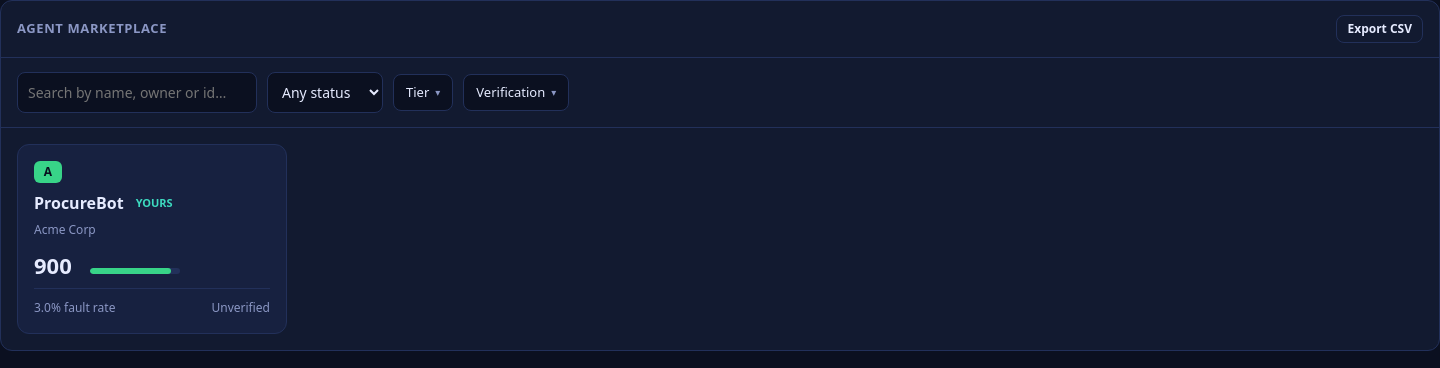
AgentsPage › lets the Tier and Verification dropdowns each pick several options at once
The image size is (1440, 368).
Check: the heading "ProcureBot YOURS" is shown, box [34, 192, 173, 214]
Click the button "Tier ▾".
click(423, 93)  # box [393, 74, 453, 111]
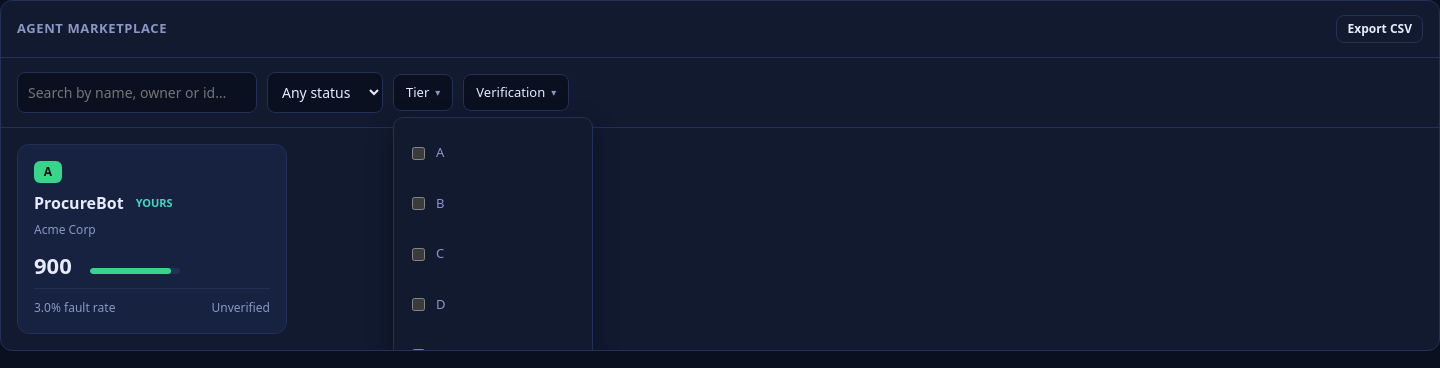
Click the checkbox labelled "A".
click(418, 153)  # box [412, 146, 425, 160]
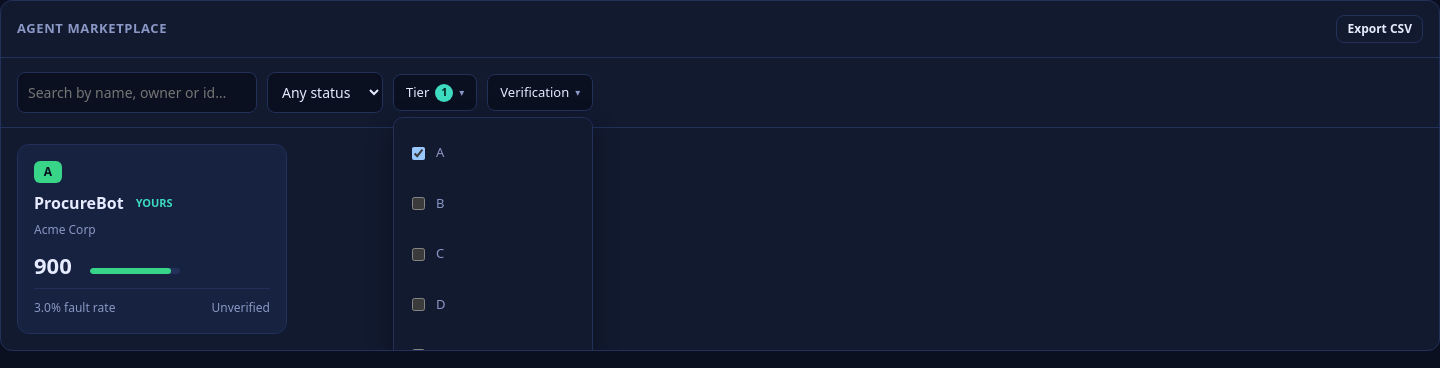
Click the checkbox labelled "B".
click(418, 204)  # box [412, 197, 425, 210]
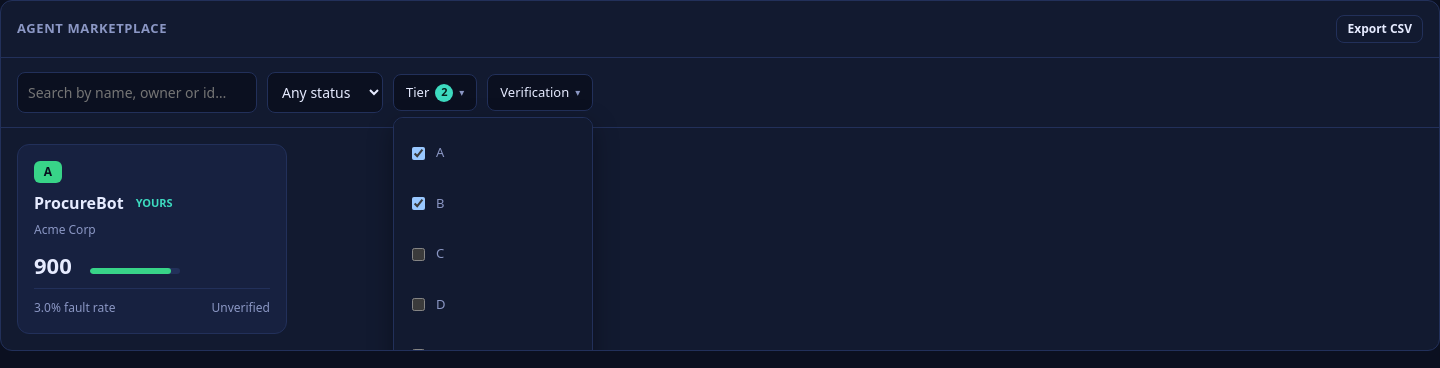
Check: the button "Tier 2 ▾" is shown, box [393, 74, 477, 111]
